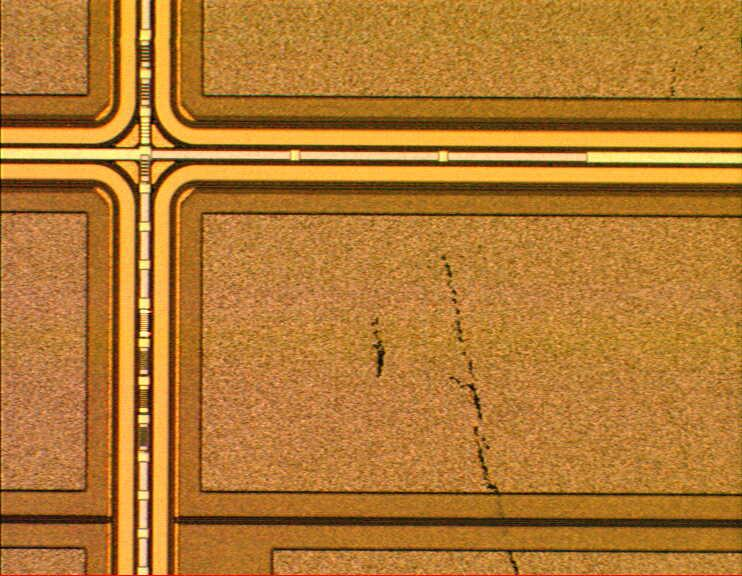SCRATCH: (356, 14, 719, 576)
